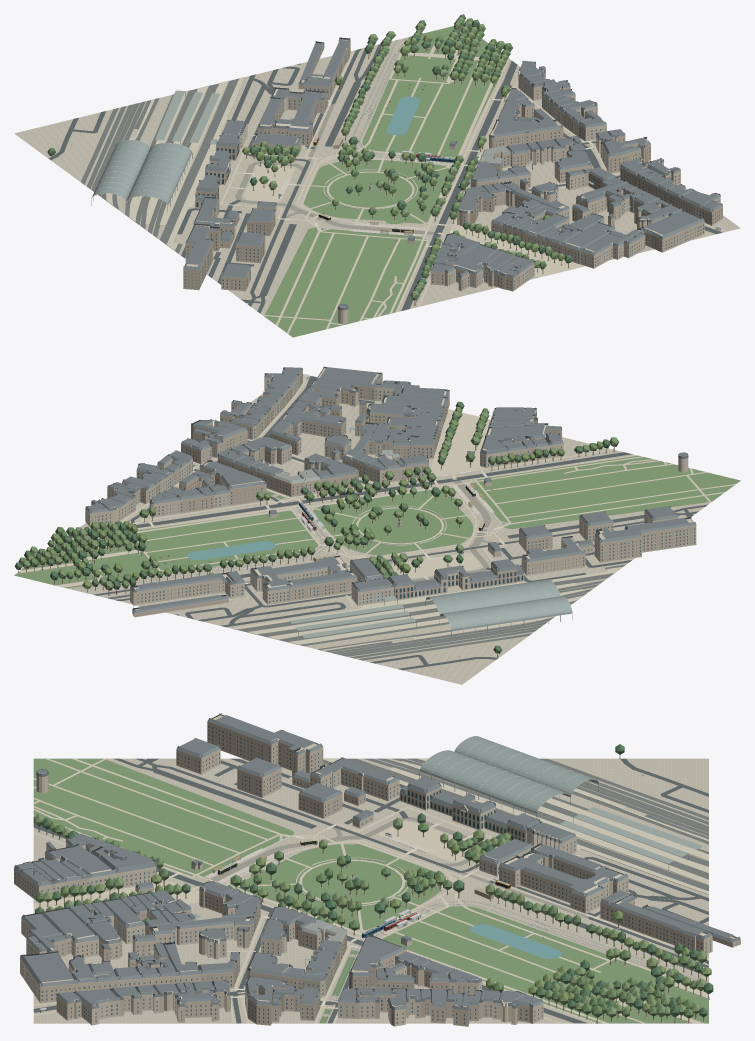
File: gare-centre.glb
3 views of the same model, one above another, from view 1: azimuth 30°, elevation 25°; view 2: azimuth 150°, elevation 25°; view 3: azimuth 270°, elevation 25° (orthographic). The views are drawn at different scales.
Visible parts, largest first — view 1: Matériau 4, Matériau 0, Matériau 15, Matériau 14, Matériau 5, Matériau 1, Matériau 3, Matériau 18, Matériau 10, Matériau 17, Matériau 29, Matériau 16 (+14 smaller); view 2: Matériau 4, Matériau 0, Matériau 15, Matériau 14, Matériau 5, Matériau 18, Matériau 10, Matériau 1, Matériau 3, Matériau 16, Matériau 17, Matériau 13 (+14 smaller); view 3: Matériau 4, Matériau 0, Matériau 15, Matériau 14, Matériau 5, Matériau 18, Matériau 16, Matériau 10, Matériau 1, Matériau 29, Matériau 3, Matériau 13 (+15 smaller).
Part boxes in pixels (left/top/right/bottom): Matériau 4: left=264, top=26, right=596, bottom=337; Matériau 0: left=14, top=37, right=740, bottom=337; Matériau 15: left=185, top=40, right=720, bottom=307; Matériau 14: left=183, top=37, right=722, bottom=310; Matériau 5: left=218, top=27, right=727, bottom=333; Matériau 1: left=48, top=44, right=721, bottom=313; Matériau 3: left=81, top=78, right=239, bottom=253; Matériau 18: left=195, top=78, right=720, bottom=323; Matériau 10: left=183, top=83, right=704, bottom=291; Matériau 17: left=195, top=43, right=722, bottom=253; Matériau 29: left=92, top=140, right=192, bottom=204; Matériau 16: left=193, top=39, right=680, bottom=291; Matériau 4: left=14, top=455, right=740, bottom=588; Matériau 0: left=15, top=374, right=739, bottom=684; Matériau 15: left=87, top=367, right=688, bottom=609; Matériau 14: left=85, top=366, right=696, bottom=613; Matériau 5: left=16, top=374, right=735, bottom=605; Matériau 18: left=115, top=375, right=688, bottom=605; Matériau 10: left=107, top=368, right=696, bottom=601; Matériau 1: left=68, top=376, right=707, bottom=670; Matériau 3: left=237, top=564, right=625, bottom=660; Matériau 16: left=85, top=381, right=678, bottom=605; Matériau 17: left=132, top=370, right=552, bottom=617; Matériau 13: left=85, top=370, right=696, bottom=616; Matériau 4: left=33, top=758, right=708, bottom=1023; Matériau 0: left=33, top=758, right=708, bottom=1023; Matériau 15: left=17, top=715, right=734, bottom=1006; Matériau 14: left=14, top=713, right=740, bottom=1010; Matériau 5: left=33, top=758, right=708, bottom=1023; Matériau 18: left=20, top=773, right=628, bottom=1025; Matériau 16: left=26, top=749, right=712, bottom=1026; Matériau 10: left=14, top=715, right=600, bottom=1026; Matériau 1: left=33, top=758, right=708, bottom=1023; Matériau 29: left=420, top=736, right=598, bottom=813; Matériau 3: left=323, top=758, right=708, bottom=891; Matériau 13: left=14, top=721, right=740, bottom=1026.
Size of the model in its own units: 461 by 20.28 by 492.
Materials: 214 (93 with a texture image).
